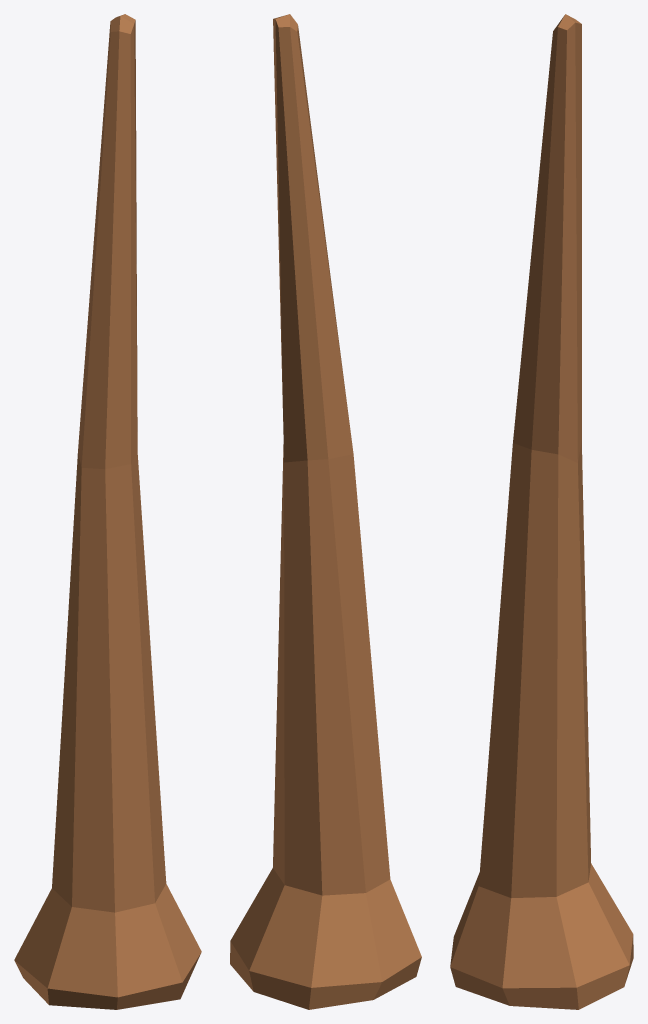
The model's file is Tree13.fbx.
3 views of the same model, side by side, from view 1: azimuth 30°, elevation 25°; view 2: azimuth 150°, elevation 25°; view 3: azimuth 270°, elevation 25° (orthographic). The views are drawn at different scales.
Parts seen in each view (by area): view 1: Tree13; view 2: Tree13; view 3: Tree13.
Part boxes in pixels (left/top/right/bottom): Tree13: left=14, top=14, right=201, bottom=1009; Tree13: left=230, top=14, right=421, bottom=1009; Tree13: left=450, top=14, right=633, bottom=1009.
Bounding box in the file's own units: 61.1 × 356 × 61.14.
